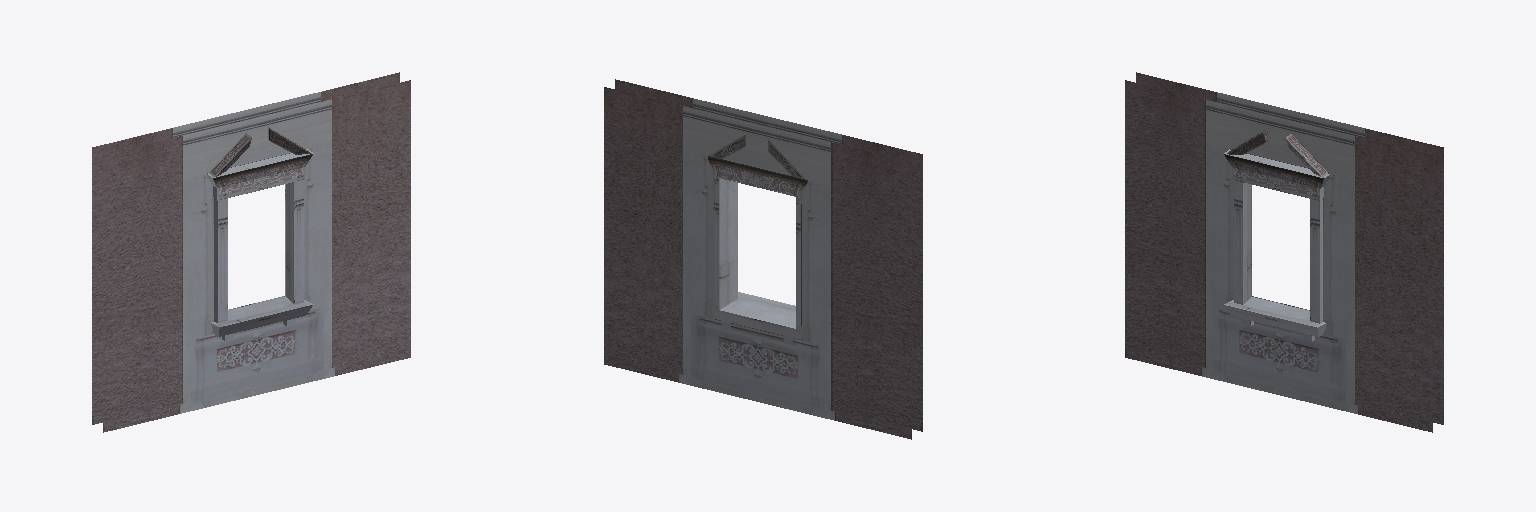
3 renders of one model, left to right at view 1: azimuth 30°, elevation 25°; view 2: azimuth 150°, elevation 25°; view 3: azimuth 330°, elevation 25°, orthographic.
Parts seen in each view (by area): view 1: polySurface196; view 2: polySurface196; view 3: polySurface196.
Boxes of the visible parts, x1,y1,x2,y2 form: polySurface196: [92, 72, 410, 432]; polySurface196: [604, 79, 922, 439]; polySurface196: [1125, 72, 1443, 432].
Bounding box in the file's own units: 1.39 × 1.2 × 0.1563.
1 materials, 1 textured.